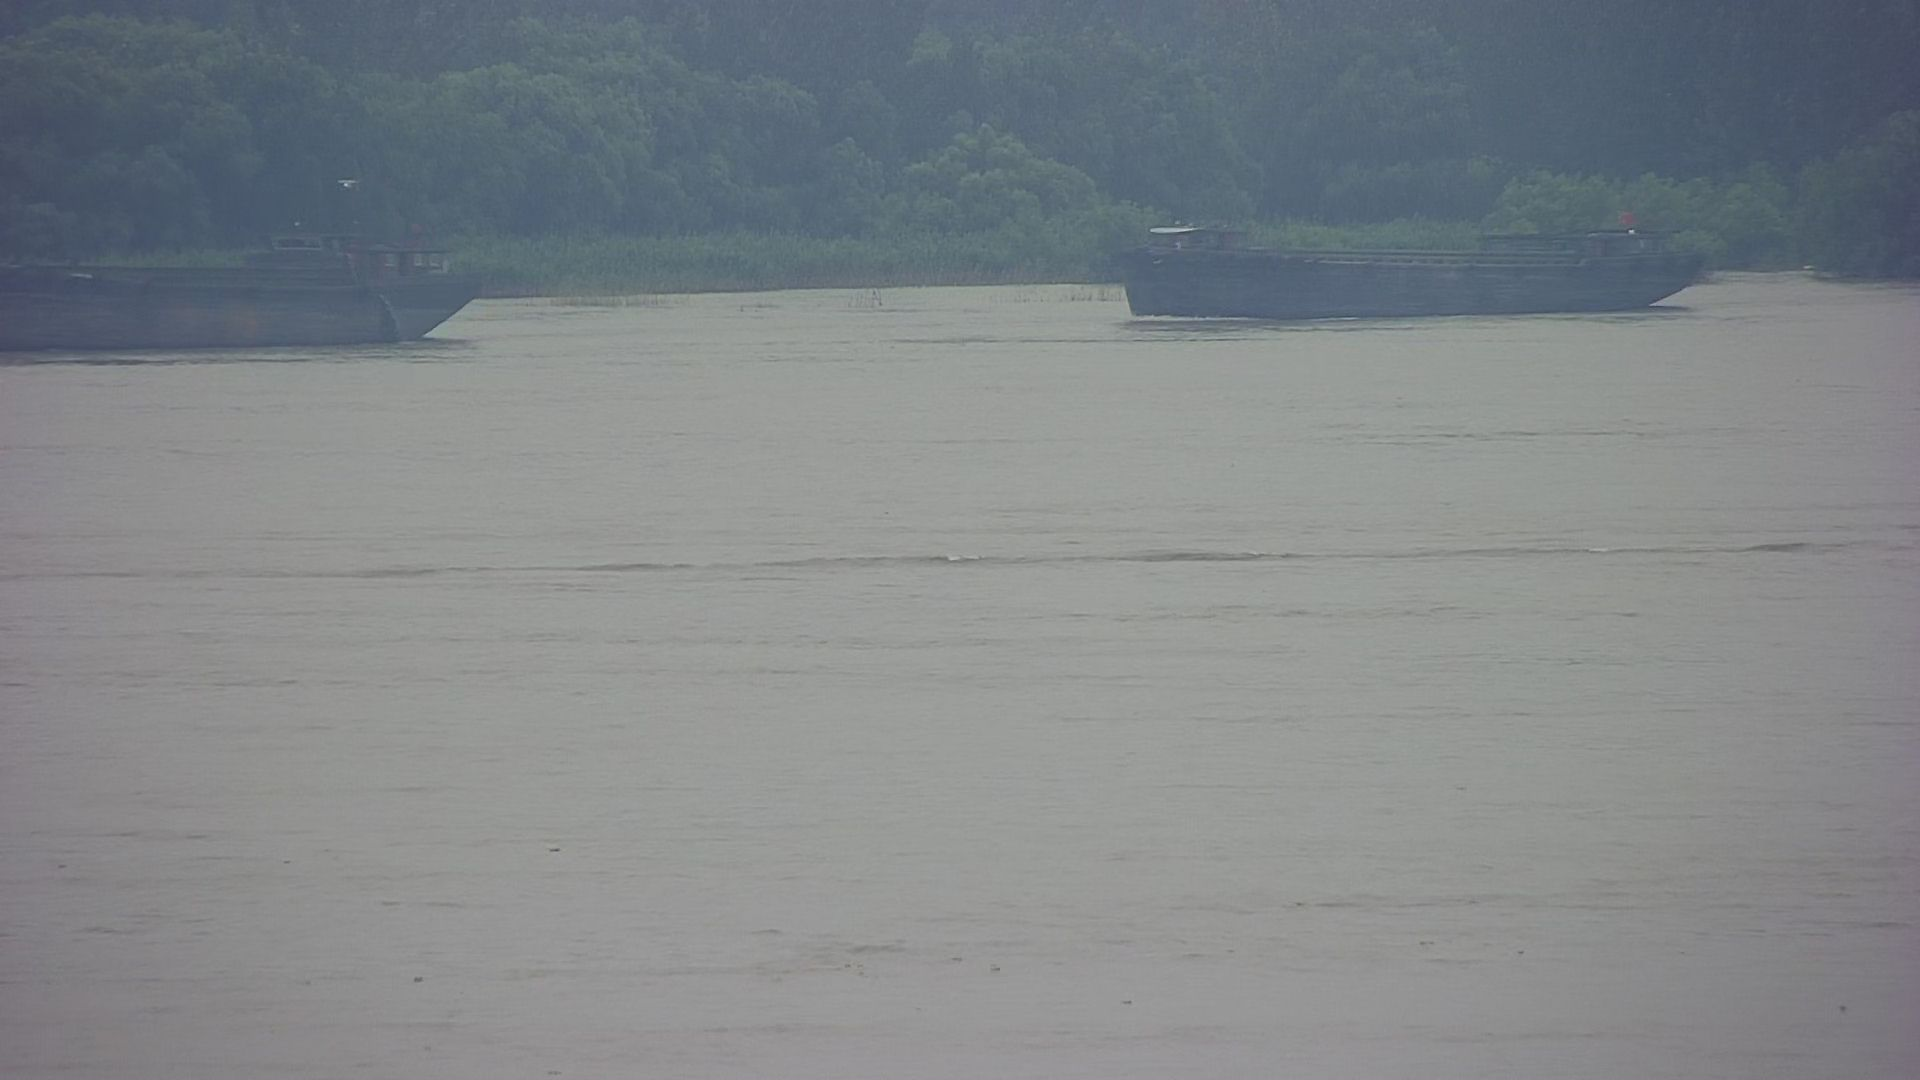ship: (1, 189, 498, 365), (1095, 196, 1730, 328)
